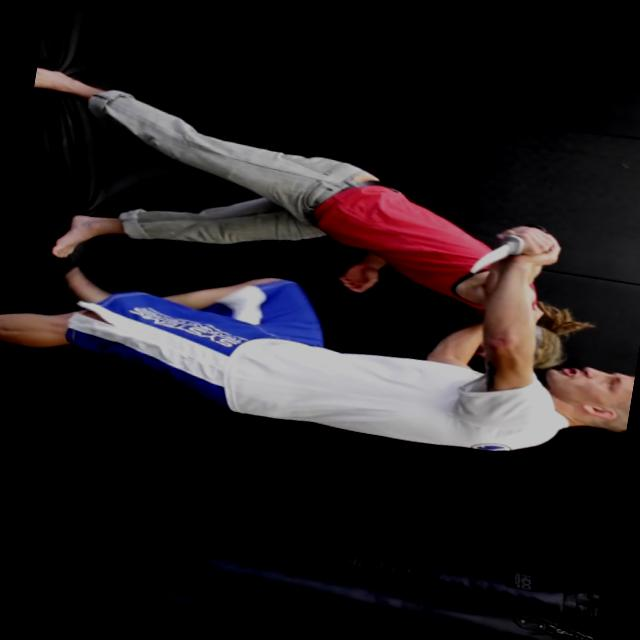knife: (458, 210, 560, 294)
